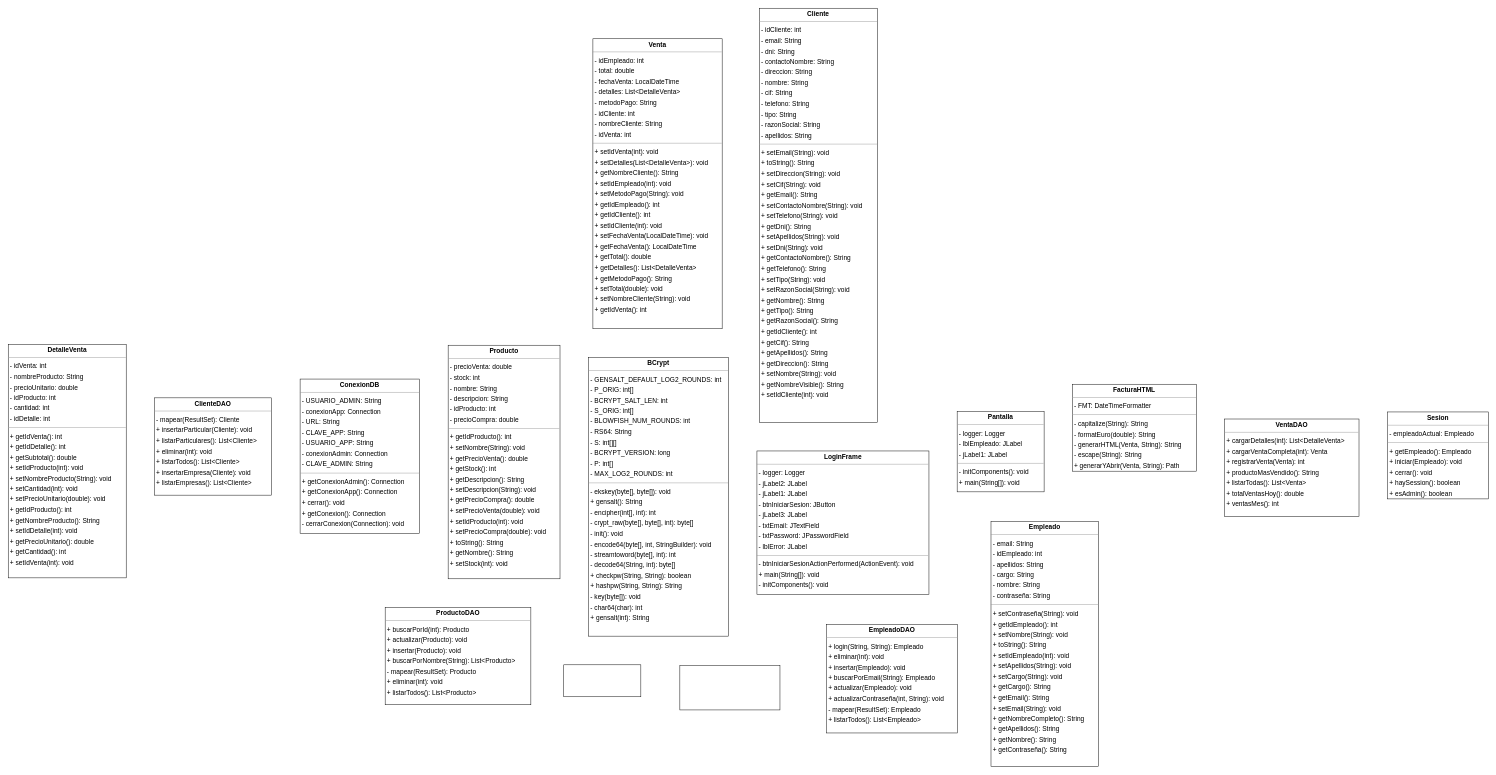
Image size: 1496x775. Some labels were removed from this diagram. Here are the shapes that lost their labels. From the top down, the box of each, then its label:
(563, 664, 641, 697): PrimeTech + main(String[]): void
(679, 665, 780, 710): HashearContrasenas + migrarContrasenas(): void + main(String[]): void
